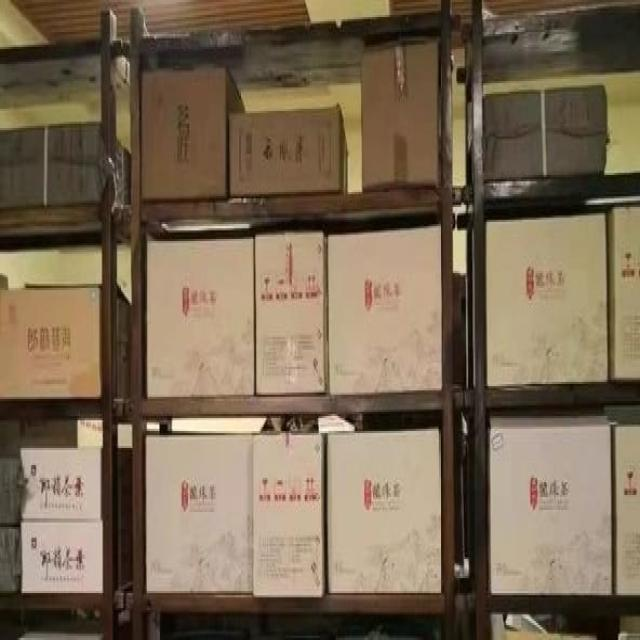box: (486, 405, 612, 595), (485, 213, 609, 386), (326, 226, 442, 393), (328, 429, 441, 593), (146, 237, 255, 399), (145, 433, 252, 595), (141, 66, 246, 201), (0, 273, 103, 399), (361, 36, 440, 190), (255, 233, 329, 397), (251, 433, 325, 597), (483, 85, 609, 181), (229, 102, 348, 198), (0, 122, 102, 211), (601, 403, 640, 595), (19, 518, 104, 595), (605, 205, 640, 382), (19, 448, 103, 521), (25, 418, 103, 450), (0, 523, 22, 593), (0, 454, 19, 527), (115, 141, 132, 207), (0, 420, 22, 459)
